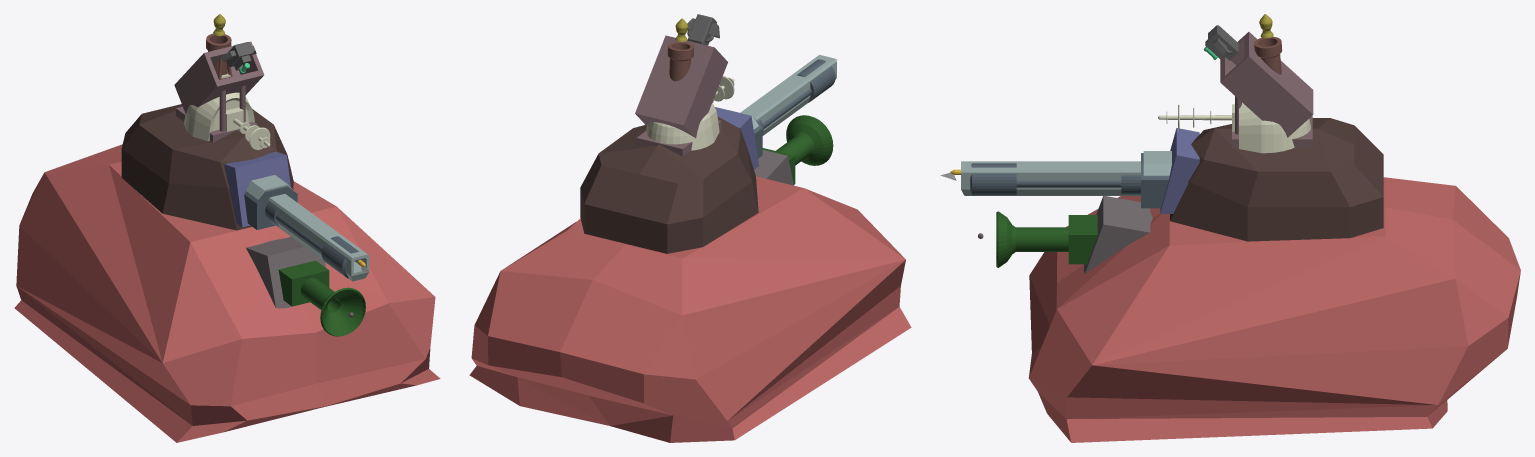
The model's file is TankMedium.fbx.
3 views of the same model, side by side, from view 1: azimuth 30°, elevation 25°; view 2: azimuth 150°, elevation 25°; view 3: azimuth 270°, elevation 25° (orthographic). The views are drawn at different scales.
Parts seen in each view (by area): view 1: Cube, Cube.001, Canister Shot, Launcher, Railgun, Energy Sphere, Hull Mount, Gatling Gun, Turret Mount, Mortier, Drone; view 2: Cube, Cube.001, Launcher, Railgun, Canister Shot, Energy Sphere, Gatling Gun, Hull Mount, Turret Mount, Mortier, Drone; view 3: Cube, Cube.001, Launcher, Railgun, Canister Shot, Gatling Gun, Hull Mount, Energy Sphere, Turret Mount, Drone, Mortier.
Part boxes in pixels (left/top/right/bottom): Cube: left=14, top=144, right=440, bottom=442; Cube.001: left=121, top=104, right=293, bottom=230; Canister Shot: left=278, top=260, right=365, bottom=336; Launcher: left=174, top=41, right=264, bottom=142; Railgun: left=246, top=175, right=369, bottom=281; Energy Sphere: left=184, top=74, right=270, bottom=150; Hull Mount: left=246, top=237, right=325, bottom=308; Gatling Gun: left=244, top=186, right=358, bottom=278; Turret Mount: left=224, top=151, right=290, bottom=227; Mortier: left=206, top=33, right=232, bottom=79; Drone: left=221, top=42, right=256, bottom=70; Cube: left=469, top=176, right=911, bottom=442; Cube.001: left=580, top=116, right=758, bottom=253; Launcher: left=635, top=35, right=727, bottom=156; Railgun: left=728, top=55, right=836, bottom=135; Canister Shot: left=762, top=115, right=833, bottom=184; Energy Sphere: left=646, top=76, right=734, bottom=150; Gatling Gun: left=753, top=59, right=835, bottom=158; Hull Mount: left=754, top=150, right=793, bottom=185; Turret Mount: left=715, top=107, right=758, bottom=169; Mortier: left=667, top=41, right=693, bottom=81; Drone: left=687, top=14, right=719, bottom=45; Cube: left=1028, top=177, right=1520, bottom=442; Cube.001: left=1170, top=118, right=1383, bottom=241; Launcher: left=1220, top=32, right=1313, bottom=147; Railgun: left=961, top=151, right=1171, bottom=195; Canister Shot: left=996, top=211, right=1097, bottom=267; Gatling Gun: left=970, top=153, right=1169, bottom=208; Hull Mount: left=1084, top=196, right=1152, bottom=273; Energy Sphere: left=1158, top=102, right=1310, bottom=153; Turret Mount: left=1160, top=128, right=1199, bottom=213; Drone: left=1205, top=25, right=1238, bottom=60; Mortier: left=1254, top=36, right=1282, bottom=74.
Size of the model in its own units: 999 by 1201 by 1701.
